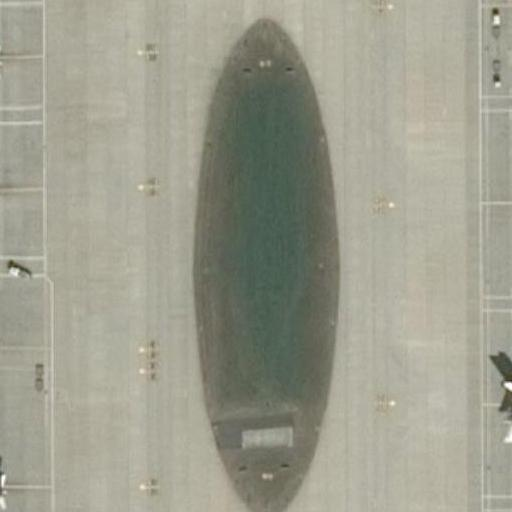Aircraft: (497, 315, 512, 491), (0, 7, 4, 103), (0, 443, 4, 512)
